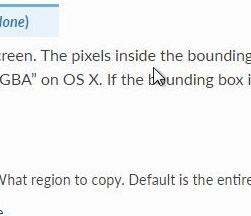cursor: (151, 65, 166, 86)
